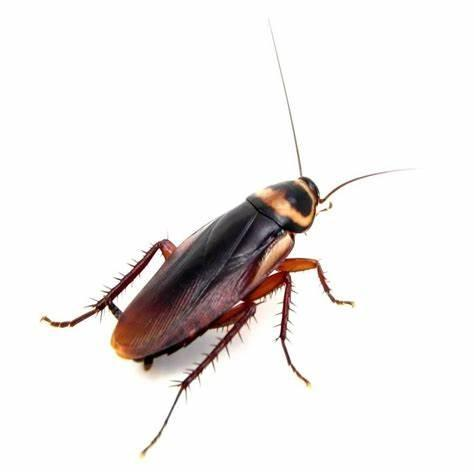cockroach: (106, 169, 330, 376)
